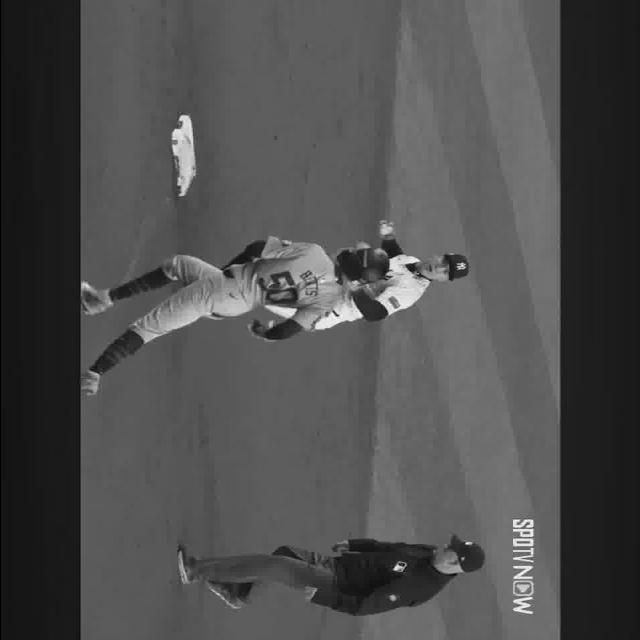base: (170, 114, 195, 196)
baseball: (380, 224, 390, 234)
shoe: (78, 281, 117, 315), (207, 583, 245, 610), (177, 546, 196, 584)
